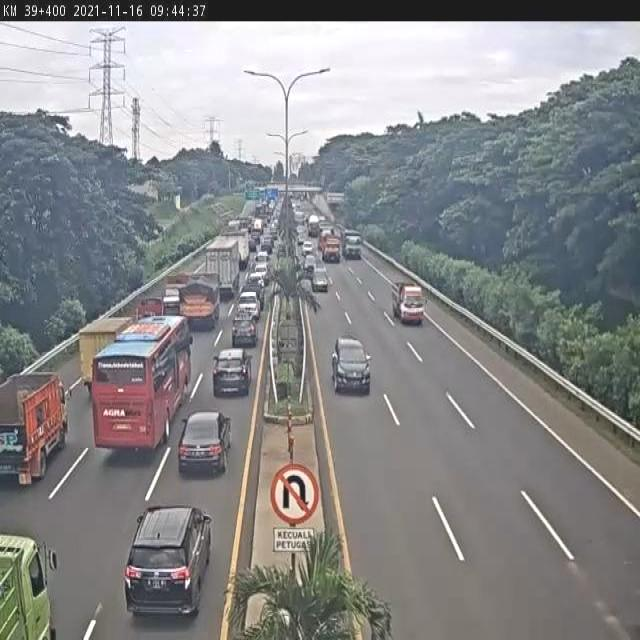Bus: (91, 313, 193, 454)
Car: (124, 504, 212, 618), (177, 410, 232, 477), (330, 336, 371, 394), (212, 348, 252, 396), (230, 310, 260, 347), (237, 290, 261, 320), (312, 268, 329, 293), (247, 270, 267, 291), (303, 254, 316, 274), (260, 235, 273, 253), (256, 251, 270, 266), (302, 240, 314, 255), (251, 226, 262, 242), (248, 235, 258, 251), (298, 231, 308, 246), (269, 225, 278, 241)
Truck: (0, 369, 73, 487), (0, 529, 59, 640), (78, 316, 135, 394), (178, 270, 222, 328), (203, 237, 242, 299), (391, 280, 426, 325), (220, 226, 250, 270), (162, 272, 189, 310), (136, 294, 166, 320), (318, 233, 342, 264), (340, 227, 362, 259), (253, 217, 262, 233)
